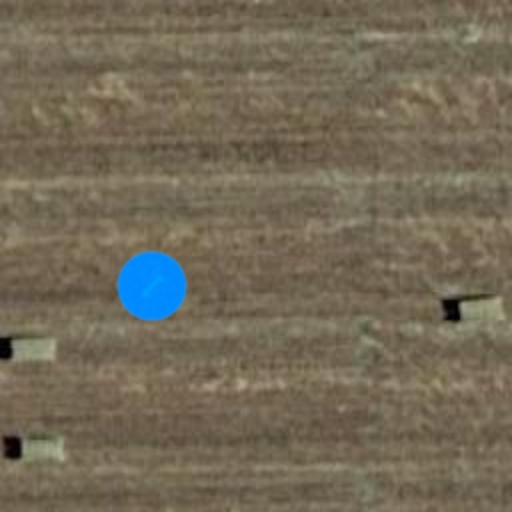circle: (102, 236, 202, 336)
